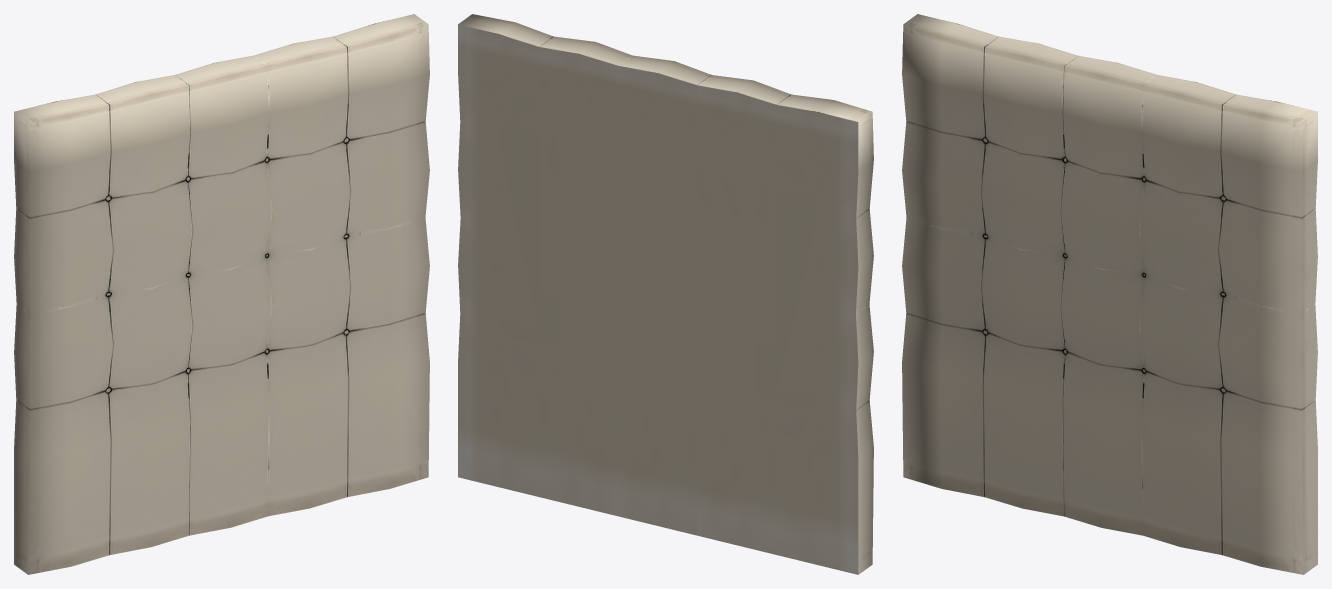
The model's file is BedBack.FBX.
The picture shows the model from 3 angles, left to right: view 1: azimuth 30°, elevation 25°; view 2: azimuth 150°, elevation 25°; view 3: azimuth 330°, elevation 25°; orthographic projection.
Parts seen in each view (by area): view 1: BedBack; view 2: BedBack; view 3: BedBack.
Part boxes in pixels (bbox=[...]): BedBack: bbox=[14, 14, 429, 574]; BedBack: bbox=[458, 14, 873, 574]; BedBack: bbox=[902, 14, 1317, 574].
Bounding box in the file's own units: 208 × 16.07 × 225.
